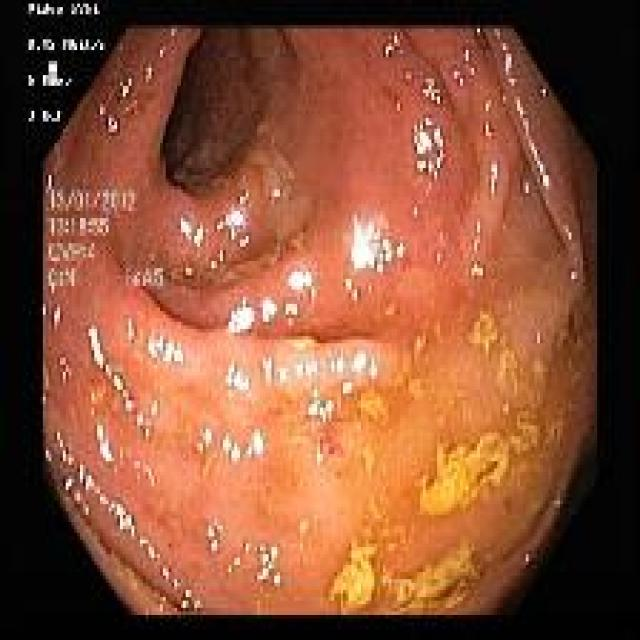ulcerative-colitis: (41, 28, 596, 614)
